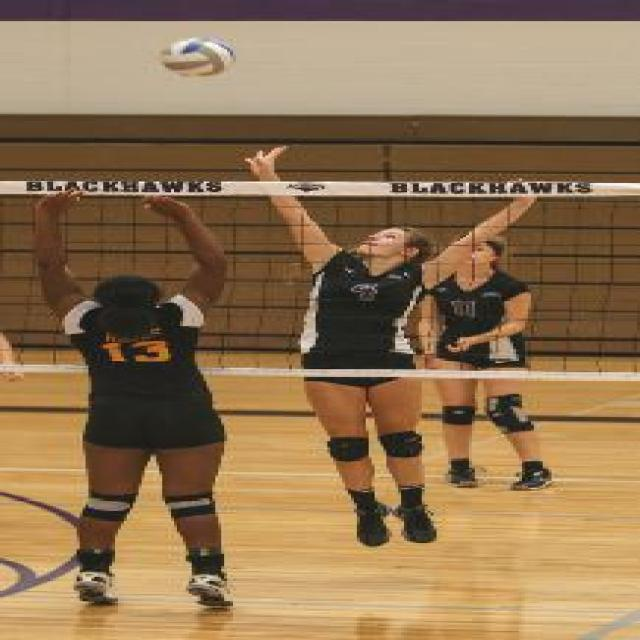volleyball: (160, 33, 238, 77)
